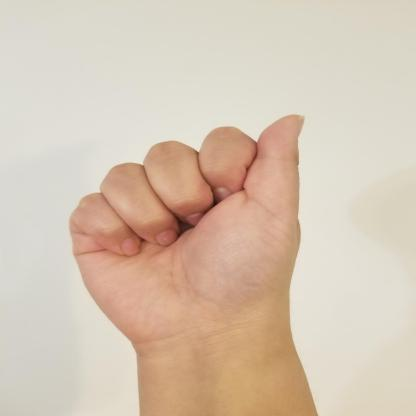A: (69, 114, 305, 362)
